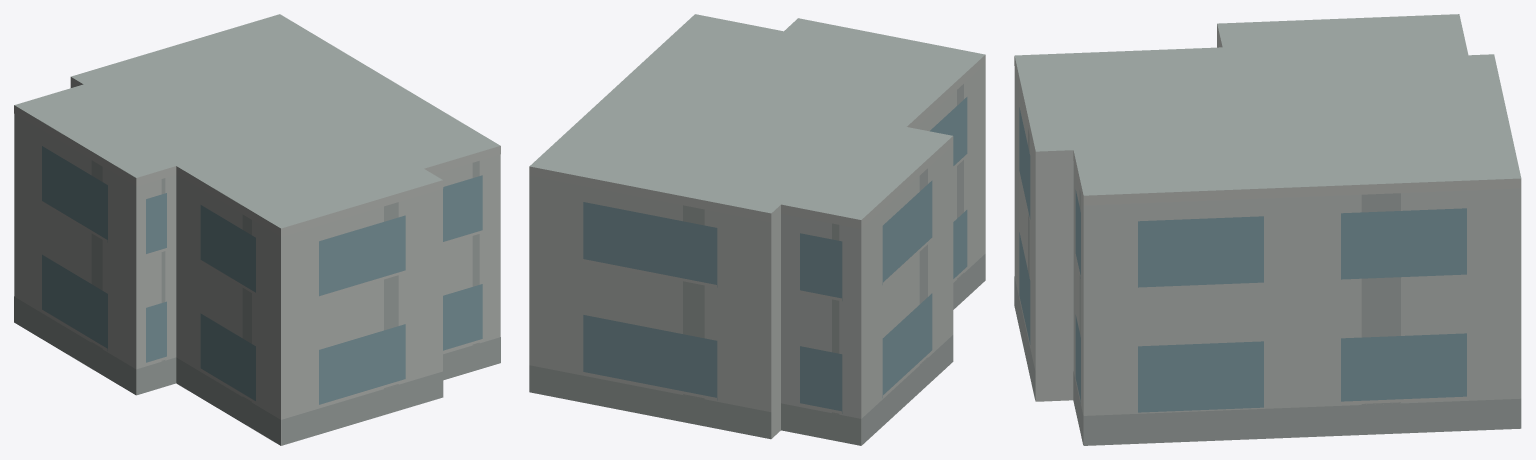
Rendered from residential-b8566111-f1de-4b3a-b7a2-0e5aa59da3d2.glb.
The picture shows the model from 3 angles, left to right: view 1: azimuth 30°, elevation 25°; view 2: azimuth 150°, elevation 25°; view 3: azimuth 270°, elevation 25°; orthographic projection. The views are drawn at different scales.
Visible parts, largest first — view 1: residential-b8566111-f1de-4b3a-b7a2-0e5aa59da3d2.tmp; view 2: residential-b8566111-f1de-4b3a-b7a2-0e5aa59da3d2.tmp; view 3: residential-b8566111-f1de-4b3a-b7a2-0e5aa59da3d2.tmp.
Part boxes in pixels (x1=…): residential-b8566111-f1de-4b3a-b7a2-0e5aa59da3d2.tmp: x1=14, y1=14, x2=500, y2=445; residential-b8566111-f1de-4b3a-b7a2-0e5aa59da3d2.tmp: x1=529, y1=14, x2=985, y2=445; residential-b8566111-f1de-4b3a-b7a2-0e5aa59da3d2.tmp: x1=1014, y1=14, x2=1521, y2=445.
Size of the model in its own units: 9.51 by 6.1 by 11.21.
